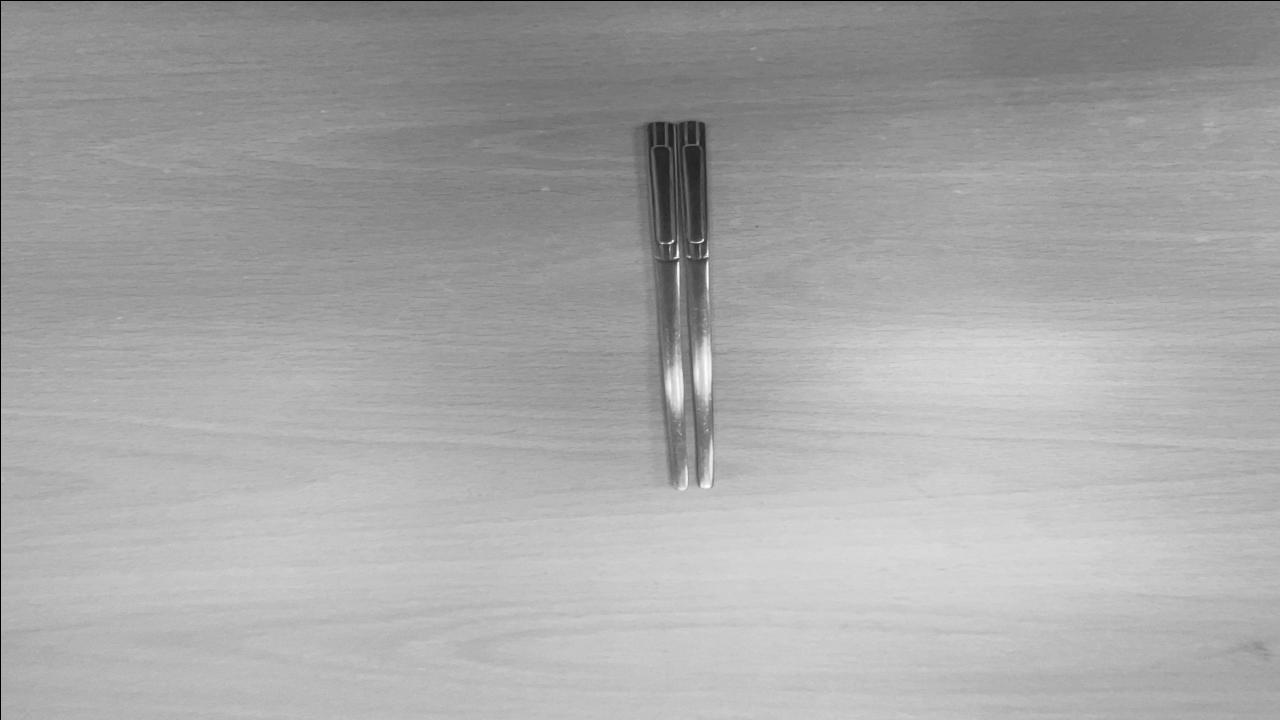chopstick: (639, 118, 719, 490)
